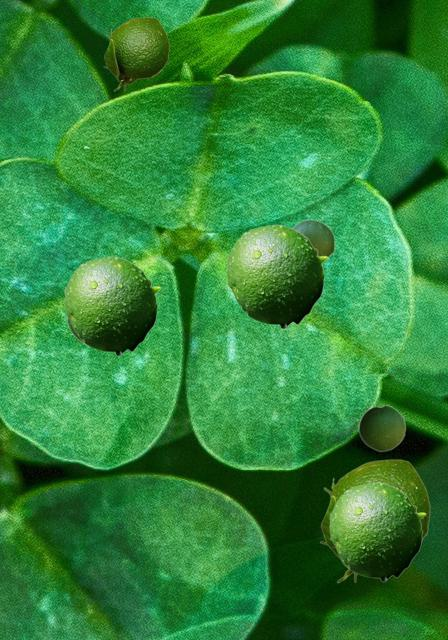dalandan: (319, 459, 429, 582), (226, 224, 327, 328), (64, 256, 160, 355), (329, 482, 425, 581), (103, 17, 168, 90), (358, 404, 405, 451), (292, 219, 334, 258), (66, 316, 85, 345)
